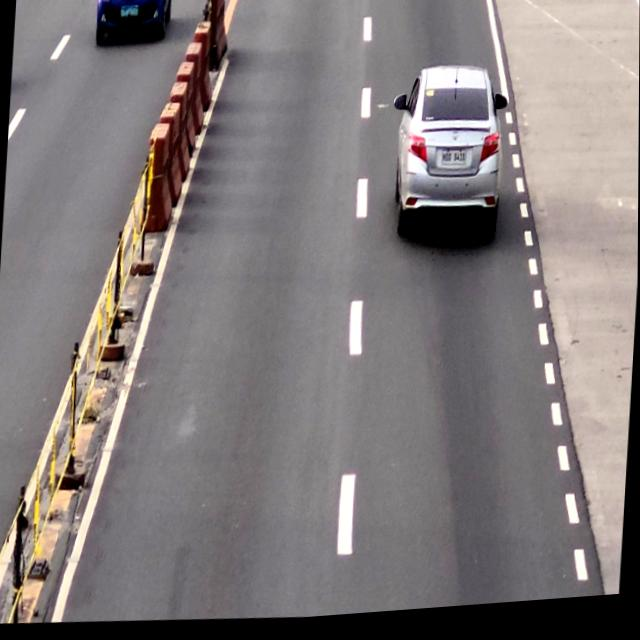Car: (395, 71, 506, 246)
License-Plate: (441, 154, 469, 175)
